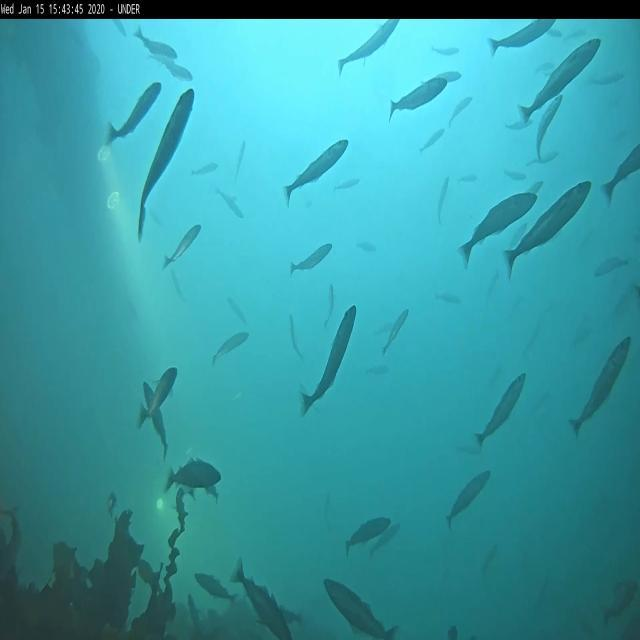fish: (136, 88, 195, 242), (505, 181, 592, 273), (522, 38, 600, 122), (457, 190, 538, 270), (571, 337, 635, 435), (301, 306, 357, 409), (231, 560, 294, 640), (324, 578, 397, 640), (475, 371, 529, 452), (286, 137, 349, 205), (338, 18, 399, 74), (107, 84, 160, 146), (136, 367, 178, 429), (484, 20, 556, 56), (444, 471, 490, 527), (600, 142, 640, 206), (388, 79, 445, 123), (536, 95, 562, 163), (166, 458, 220, 490), (144, 382, 167, 455), (346, 516, 390, 554), (134, 26, 177, 64), (602, 580, 638, 625), (290, 240, 332, 276), (165, 226, 198, 266), (212, 332, 248, 368), (193, 574, 237, 602), (382, 310, 408, 354), (368, 523, 402, 553), (216, 188, 243, 218), (422, 68, 462, 88), (594, 256, 628, 277), (450, 96, 473, 126), (162, 61, 194, 80), (290, 316, 304, 359), (227, 301, 250, 325), (234, 140, 247, 178), (531, 152, 562, 167), (438, 178, 448, 224), (170, 268, 183, 301), (324, 286, 334, 326), (591, 72, 624, 84), (278, 612, 302, 626), (190, 163, 218, 175), (434, 290, 464, 301), (526, 180, 544, 196), (113, 20, 128, 39), (335, 176, 358, 188), (432, 44, 459, 54), (504, 169, 526, 179), (536, 62, 554, 74), (458, 173, 478, 183), (358, 242, 376, 252)
